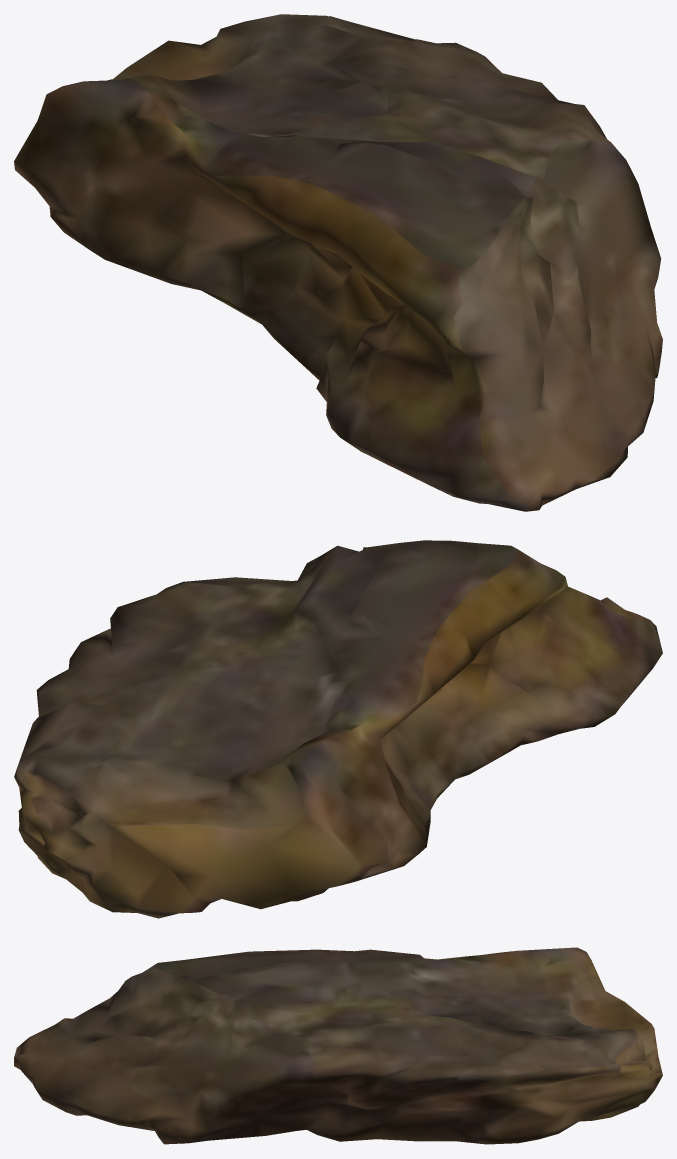
Rendered from rock_09_lod2.glb.
3 views of the same model, one above another, from view 1: azimuth 30°, elevation 25°; view 2: azimuth 150°, elevation 25°; view 3: azimuth 270°, elevation 25° (orthographic). The views are drawn at different scales.
Visible parts, largest first — view 1: rock_09_LOD0; view 2: rock_09_LOD0; view 3: rock_09_LOD0.
Boxes of the visible parts, x1=… form: rock_09_LOD0: x1=14, y1=14, x2=662, y2=511; rock_09_LOD0: x1=14, y1=540, x2=662, y2=918; rock_09_LOD0: x1=14, y1=947, x2=662, y2=1144.
Bounding box in the file's own units: 0.0738 × 0.0326 × 0.1446.
1 material, 1 textured.
